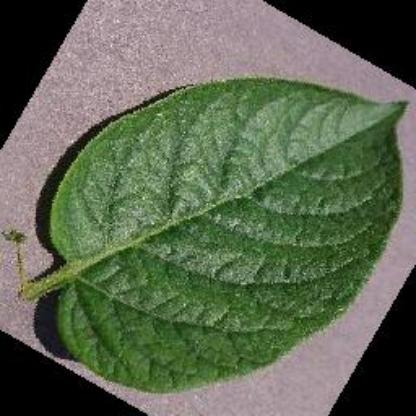Healthy-plant: (9, 63, 412, 400)
